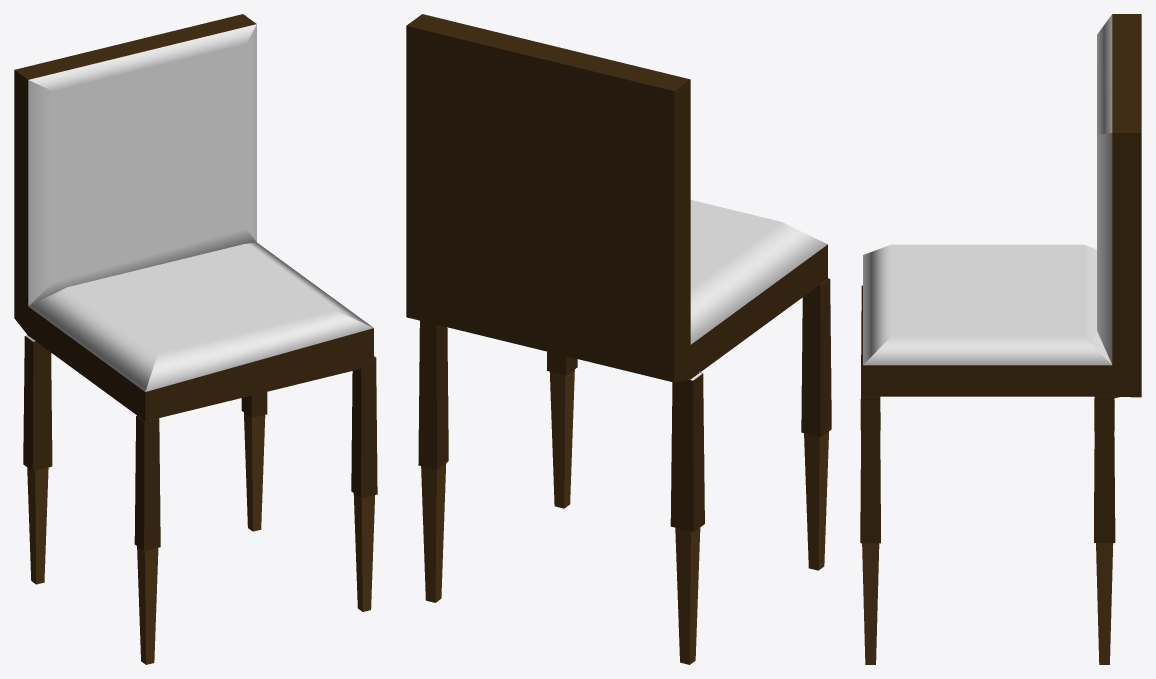
Rendered from Chaiir.fbx.
3 views of the same model, side by side, from view 1: azimuth 30°, elevation 25°; view 2: azimuth 150°, elevation 25°; view 3: azimuth 270°, elevation 25° (orthographic). The views are drawn at different scales.
Parts seen in each view (by area): view 1: Chair; view 2: Chair; view 3: Chair.
Boxes of the visible parts, left/top/right/bottom form: Chair: left=14, top=14, right=377, bottom=664; Chair: left=406, top=14, right=831, bottom=664; Chair: left=860, top=14, right=1141, bottom=664.
Bounding box in the file's own units: 144 × 293 × 140.
